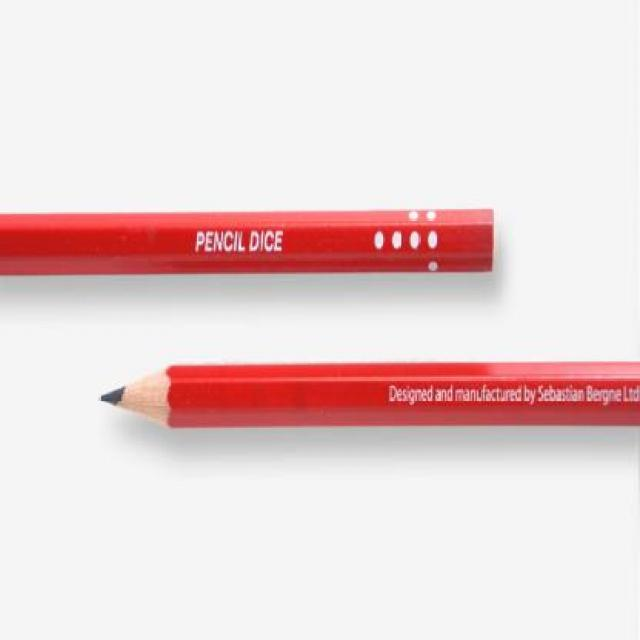Pencil: (93, 353, 187, 455)
